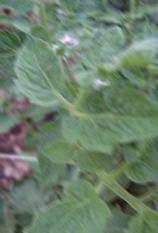Tomato leaf mosaic virus: (59, 82, 158, 156), (0, 178, 119, 233), (13, 36, 69, 114), (80, 25, 132, 70), (123, 155, 158, 189), (124, 206, 158, 233), (46, 142, 82, 165)
